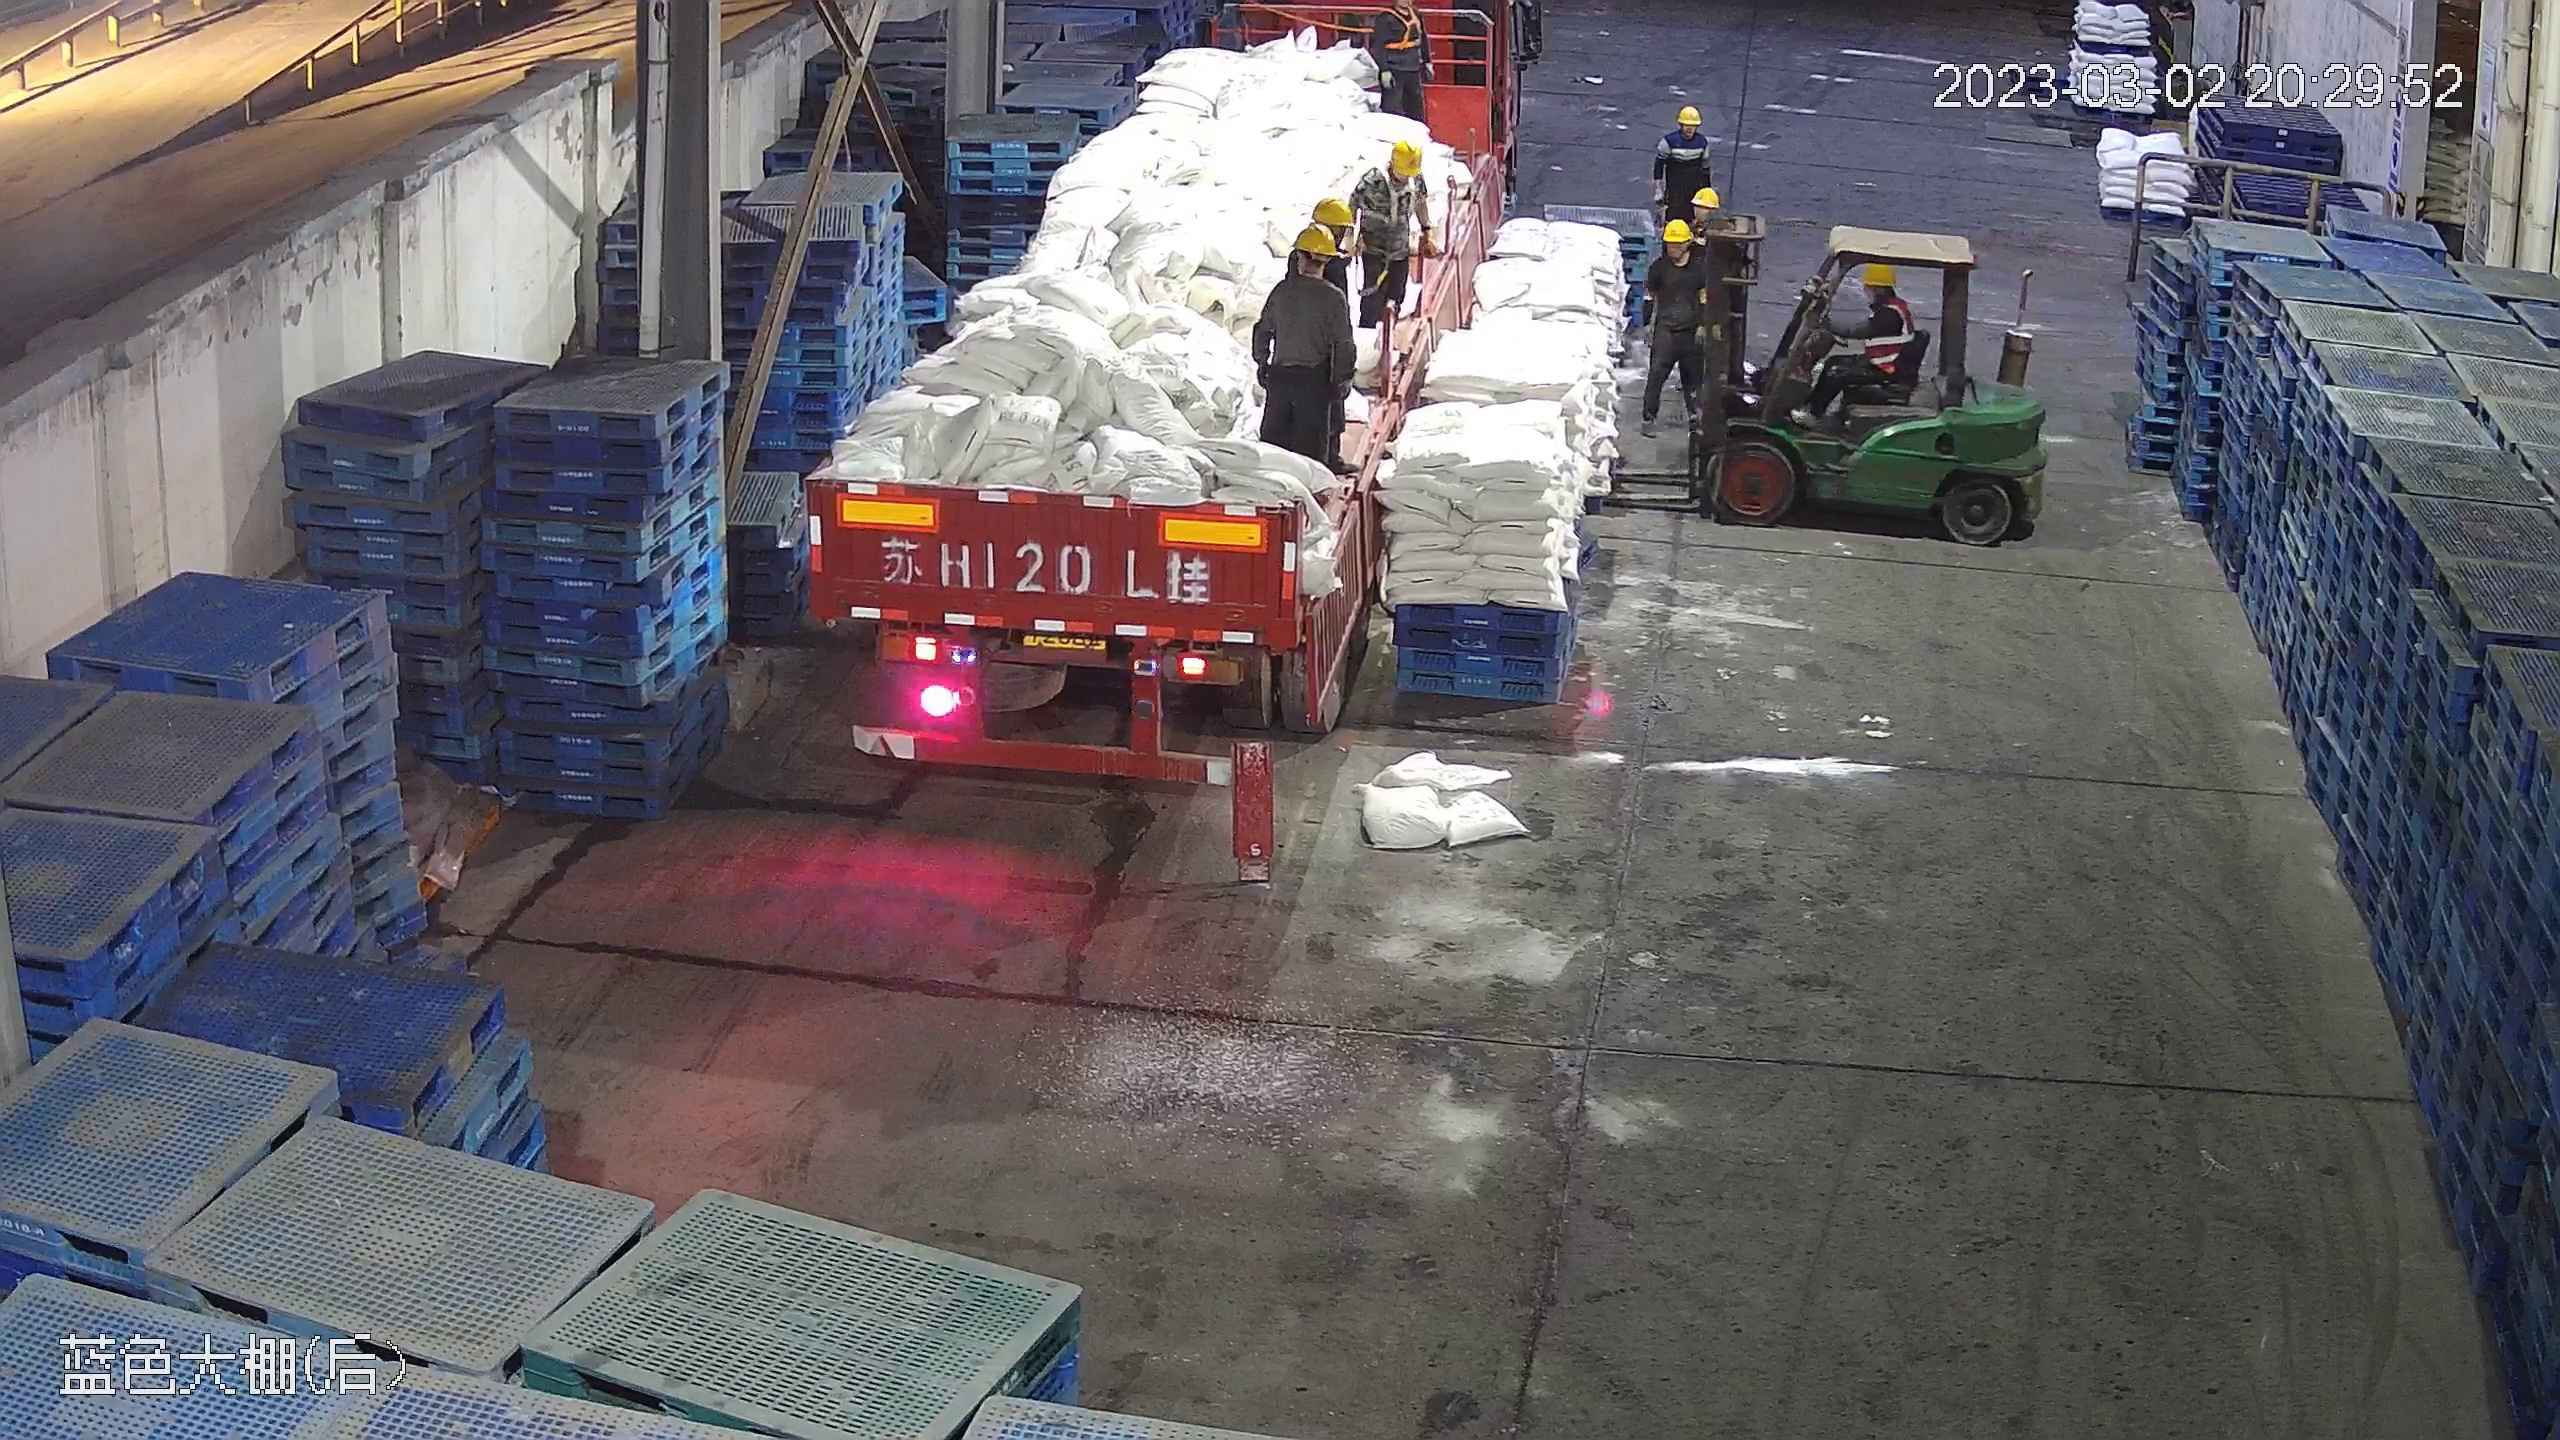belt: (1354, 174, 1413, 224), (1377, 5, 1425, 53)
head: (1266, 222, 1351, 317), (1355, 136, 1425, 203), (1855, 261, 1912, 332), (1646, 217, 1703, 282), (1659, 105, 1709, 160)
helmet: (1295, 213, 1343, 254), (1313, 195, 1356, 235), (1386, 136, 1422, 170), (1676, 183, 1716, 211), (1862, 261, 1897, 285), (1660, 220, 1691, 245), (1676, 106, 1699, 124)
people: (1248, 215, 1353, 462), (1798, 259, 1917, 423), (1343, 130, 1431, 346), (1638, 216, 1710, 424), (1653, 101, 1715, 219)
truck: (787, 8, 1473, 777)
